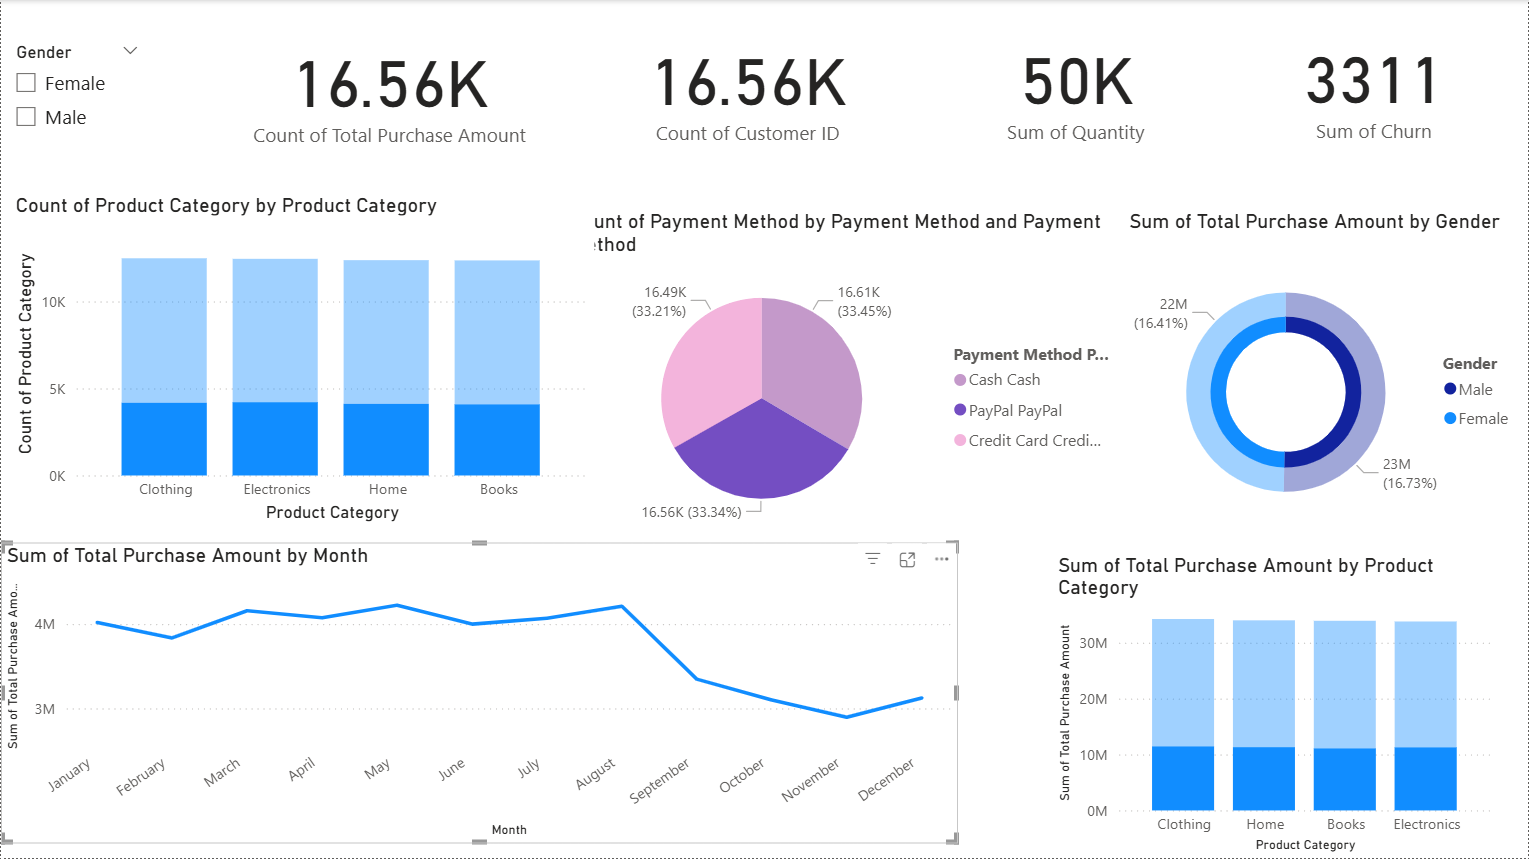

The page's visual inventory and layout, read from the dashboard file:
{"tool":"powerbi","page":{"name":"Page 1","canvas":[1280,720],"ordinal":0},"visuals":[{"type":"card","fields":{"Values":["CountNonNull(ecommerce_customer_data_large[1].Total Purchase Amount)"]},"box":[178.8,15,293.8,120],"z":0},{"type":"card","fields":{"Values":["Sum(ecommerce_customer_data_large[1].Quantity)"]},"box":[771.2,10,260,123.8],"z":1000},{"type":"card","fields":{"Values":["CountNonNull(ecommerce_customer_data_large[1].Customer ID)"]},"box":[472.5,6.2,307.5,133.8],"z":2000},{"type":"clusteredColumnChart","fields":{"Category":["ecommerce_customer_data_large[1].Product Category"],"Y":["Sum(ecommerce_customer_data_large[1].Total Purchase Amount)"]},"box":[881.2,463.8,373.8,256.2],"z":3000},{"type":"pieChart","fields":{"Category":["ecommerce_customer_data_large[1].Payment Method","ecommerce_customer_data_large[1].Payment Method"],"Y":["CountNonNull(ecommerce_customer_data_large[1].Payment Method)"]},"box":[472.5,175,468.8,280],"z":4000},{"type":"donutChart","fields":{"Category":["ecommerce_customer_data_large[1].Gender"],"Y":["Sum(ecommerce_customer_data_large[1].Total Purchase Amount)"]},"box":[941.2,175,338.8,288.8],"z":5000},{"type":"lineChart","fields":{"Category":["ecommerce_customer_data_large[1].Purchase Date.Variation.Date Hierarchy.Month"],"Y":["Sum(ecommerce_customer_data_large[1].Total Purchase Amount)"]},"box":[0,455,802.5,252.5],"z":6000},{"type":"clusteredColumnChart","fields":{"Category":["ecommerce_customer_data_large[1].Product Category"],"Y":["CountNonNull(ecommerce_customer_data_large[1].Product Category)"]},"box":[7.5,161.2,490,281.2],"z":7000},{"type":"card","fields":{"Values":["Sum(ecommerce_customer_data_large[1].Churn)"]},"box":[1031.2,8.8,240,126.2],"z":8000},{"type":"slicer","fields":{"Values":["ecommerce_customer_data_large[1].Gender"]},"box":[0,30,127.5,98.8],"z":9000}]}

Visuals, with their boxes in screenshot pixels (x1, y1, x2, y2), scaled from the page's 1280x720 canvas onto the 1529x859 screenshot:
card - CountNonNull(ecommerce_customer_data_large[1].Total Purchase Amount): l=214, t=18, r=565, b=161
card - Sum(ecommerce_customer_data_large[1].Quantity): l=921, t=12, r=1232, b=160
card - CountNonNull(ecommerce_customer_data_large[1].Customer ID): l=564, t=7, r=932, b=167
clusteredColumnChart - ecommerce_customer_data_large[1].Product Category x Sum(ecommerce_customer_data_large[1].Total Purchase Amount): l=1053, t=553, r=1499, b=858
pieChart - ecommerce_customer_data_large[1].Payment Method x ecommerce_customer_data_large[1].Payment Method: l=564, t=209, r=1124, b=543
donutChart - ecommerce_customer_data_large[1].Gender x Sum(ecommerce_customer_data_large[1].Total Purchase Amount): l=1124, t=209, r=1528, b=553
lineChart - ecommerce_customer_data_large[1].Purchase Date.Variation.Date Hierarchy.Month x Sum(ecommerce_customer_data_large[1].Total Purchase Amount): l=0, t=543, r=959, b=844
clusteredColumnChart - ecommerce_customer_data_large[1].Product Category x CountNonNull(ecommerce_customer_data_large[1].Product Category): l=9, t=192, r=594, b=528
card - Sum(ecommerce_customer_data_large[1].Churn): l=1232, t=10, r=1518, b=161
slicer - ecommerce_customer_data_large[1].Gender: l=0, t=36, r=152, b=154
